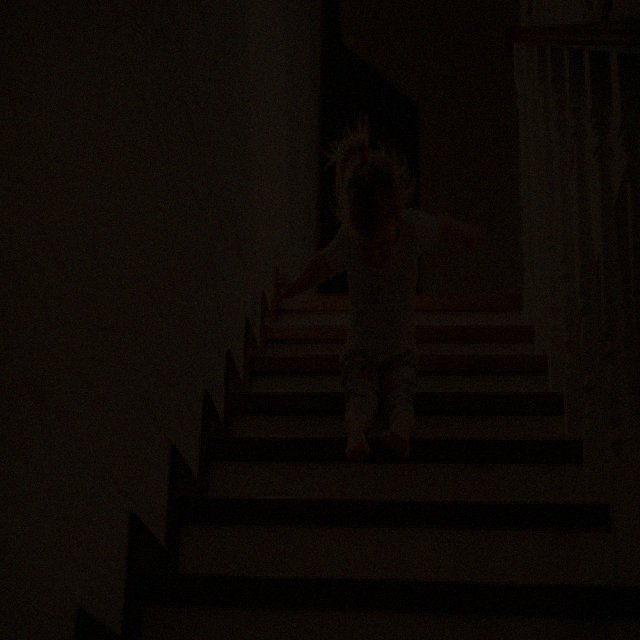stair: (139, 299, 639, 639)
